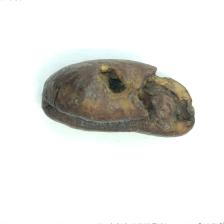NG: (42, 59, 194, 138)
